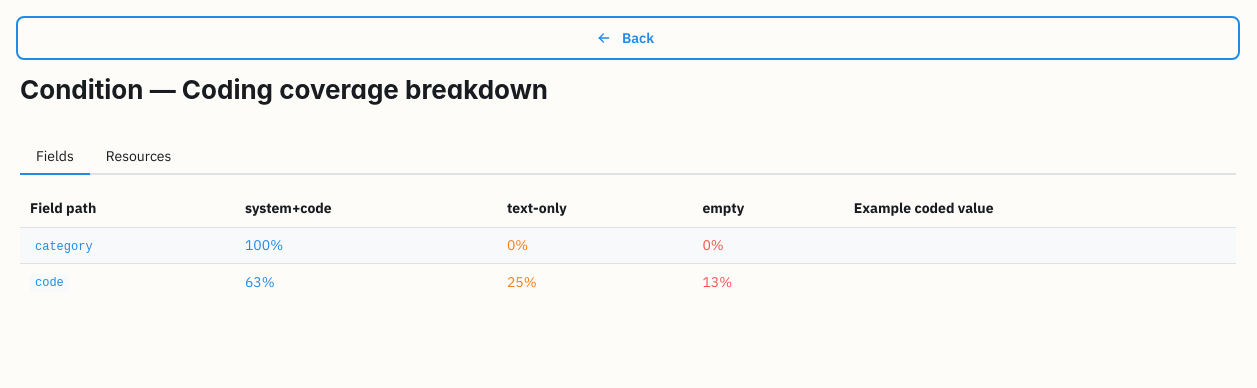
Scenario: CodingDrillDown › renders Resources tab when clicked
// Click Resources tab
Click the tab "Resources" at (139, 157), box [90, 139, 187, 175]
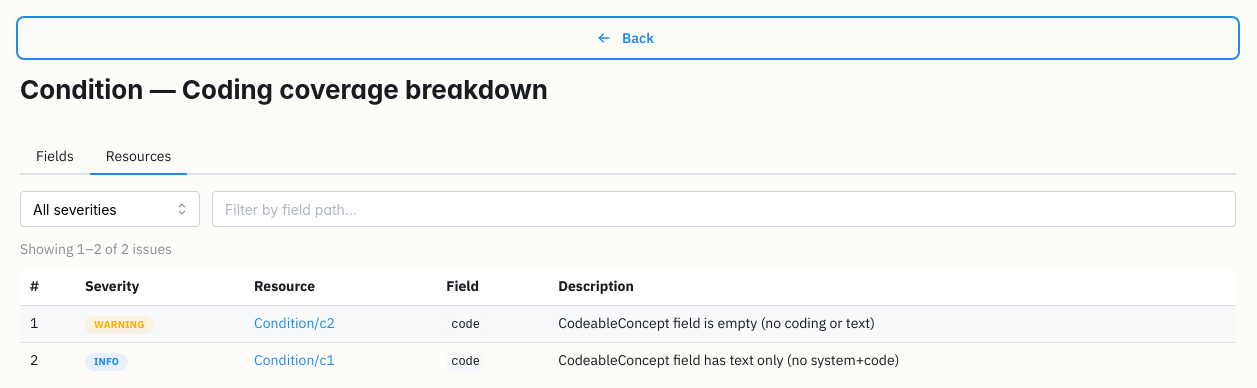
Expected: the link "Condition/c1" is shown, [254, 351, 335, 369]
Expected: the link "Condition/c2" is shown, [254, 314, 335, 332]
